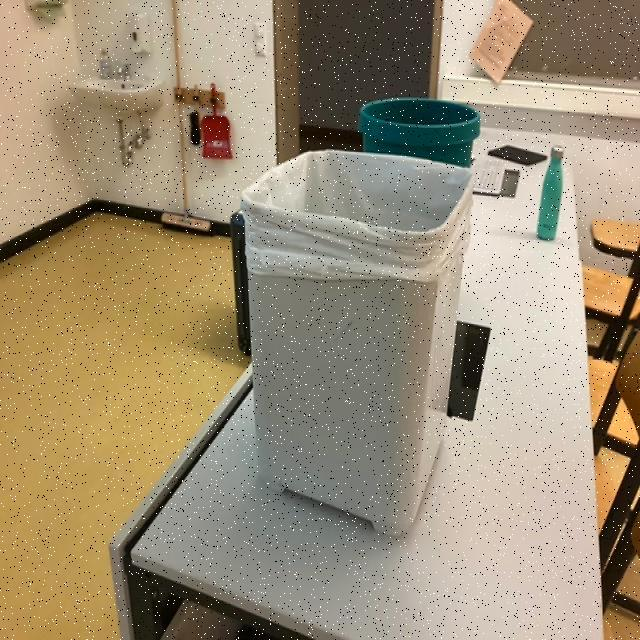garbage container: (233, 134, 483, 546), (360, 88, 489, 148)
